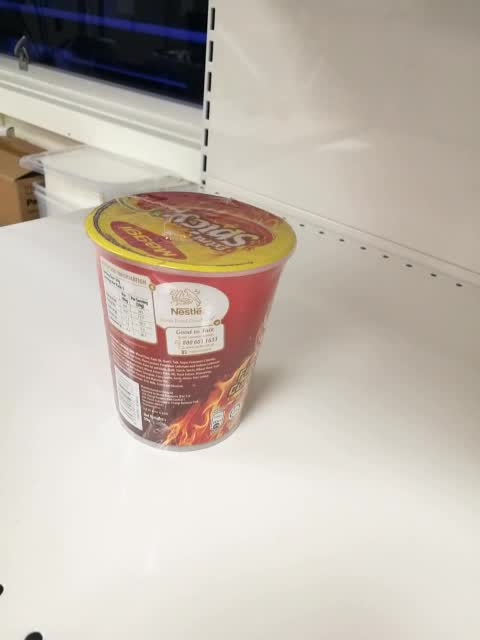maggi: (83, 191, 297, 452)
